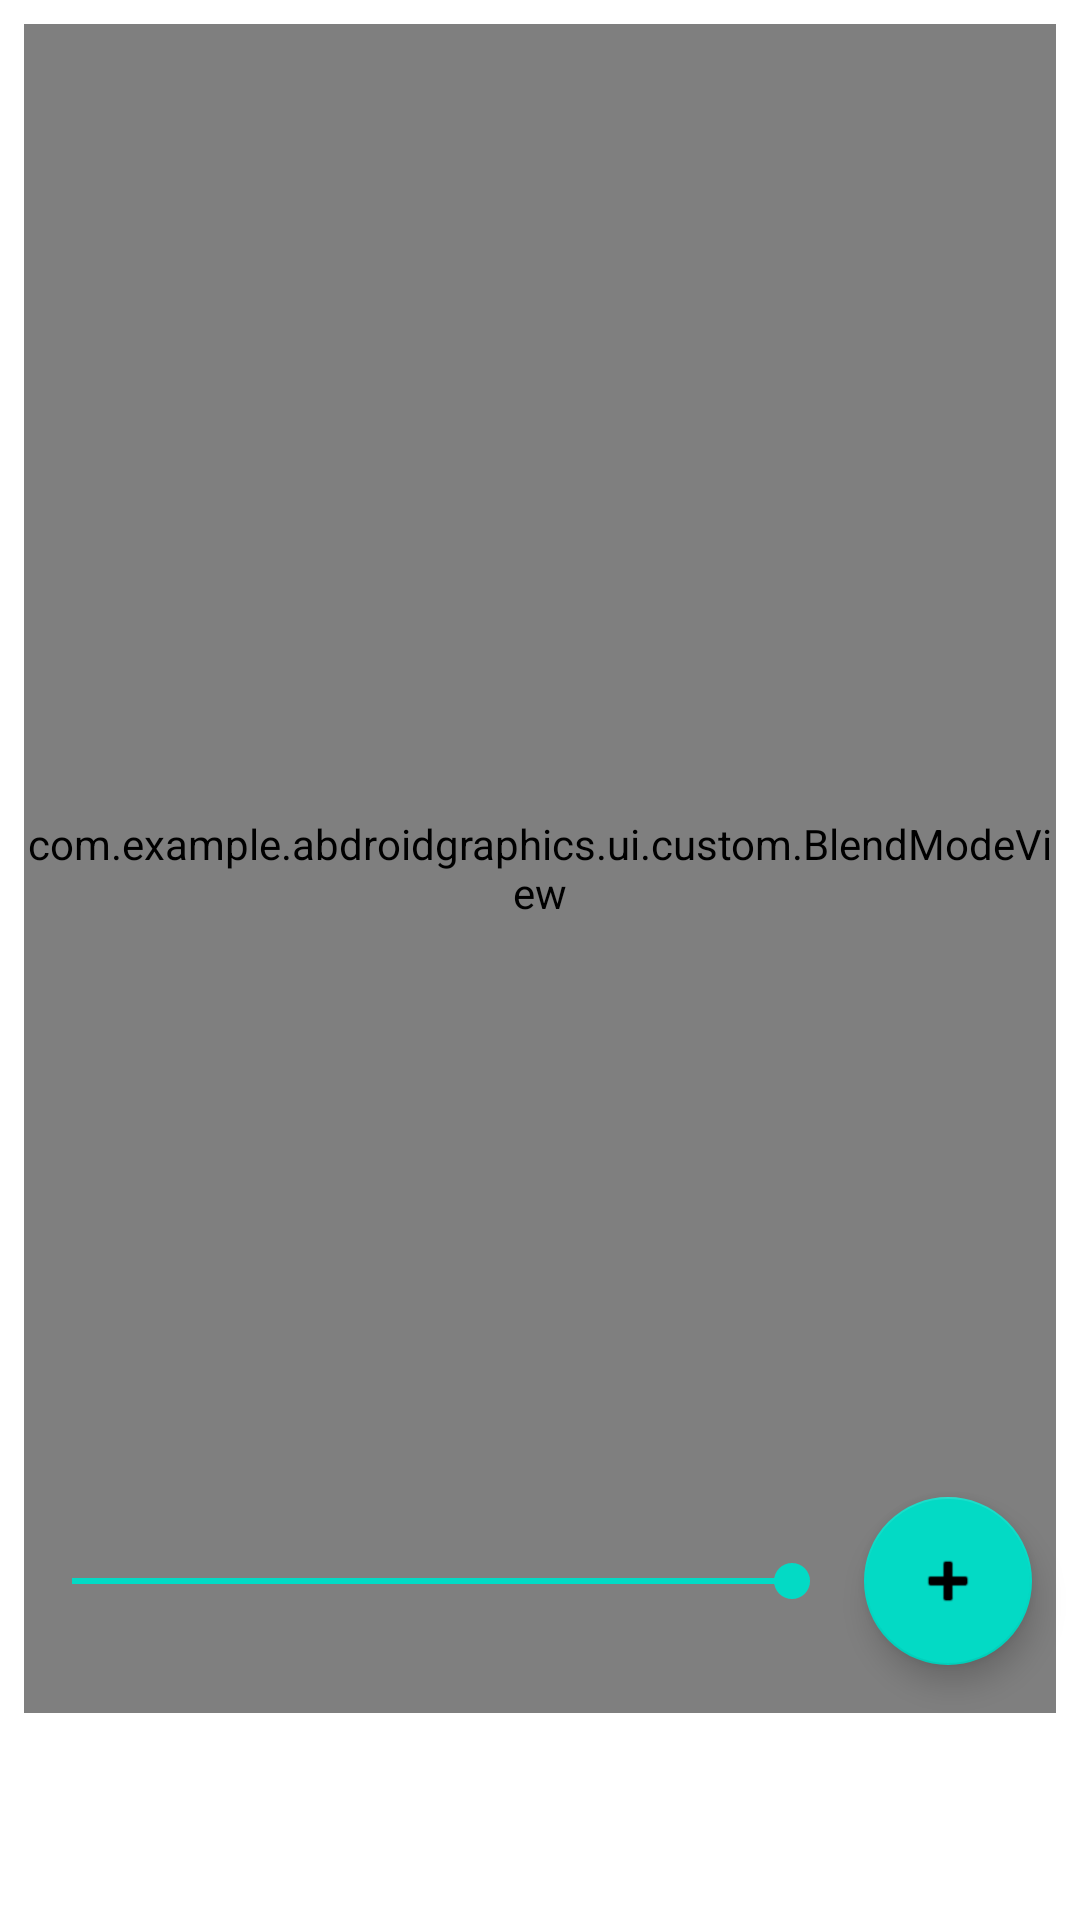

Where icons sit on this 1080px×1920px app screen, as bbox=(x1, y1, x2, y2):
add: bbox=(864, 1497, 1032, 1665)
